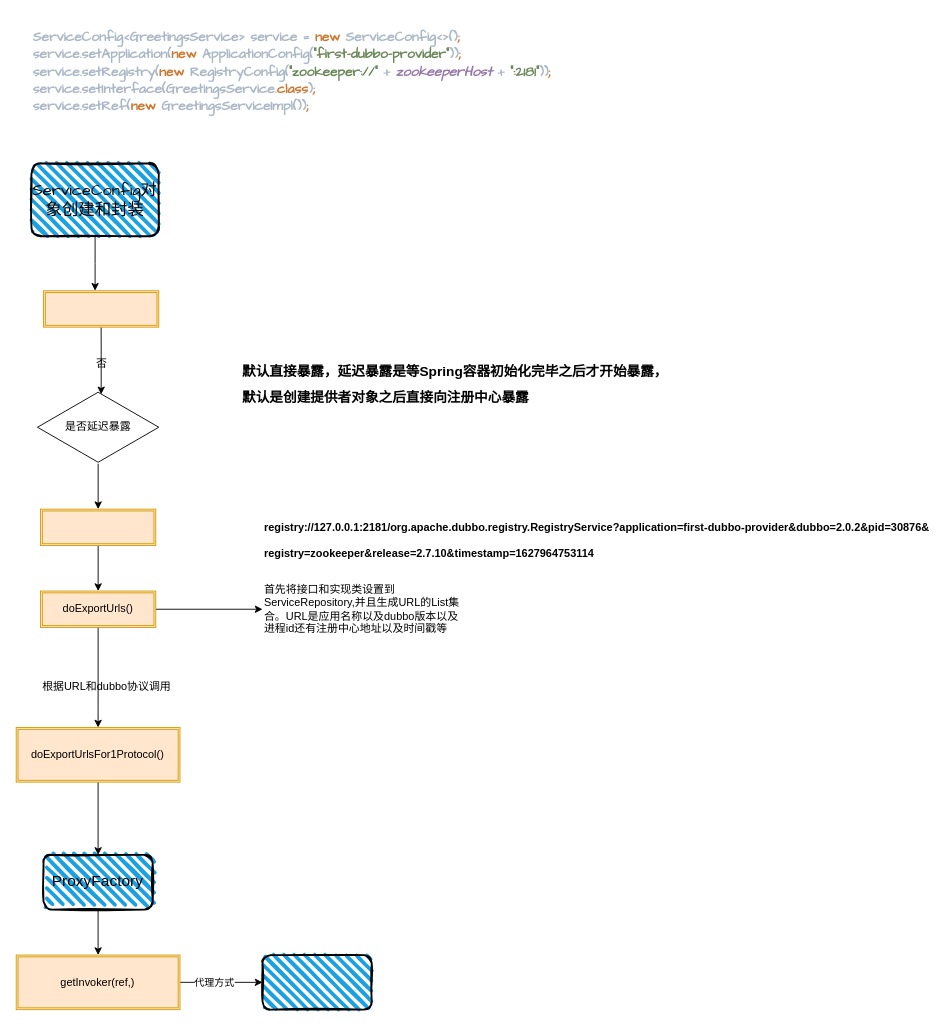
Image size: 945x1026. Some labels were removed from this diagram. Here are the shapes that lost their labels. From the top down, the centre of each, then its label:
At [101,308]: "export()".
At [98,527]: "doExport()".
At [316,982]: "Invoker".
